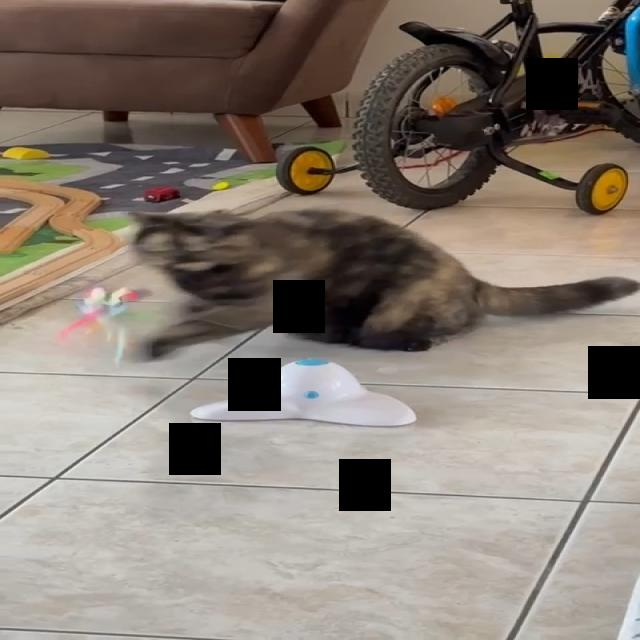authorized: (126, 207, 638, 359)
